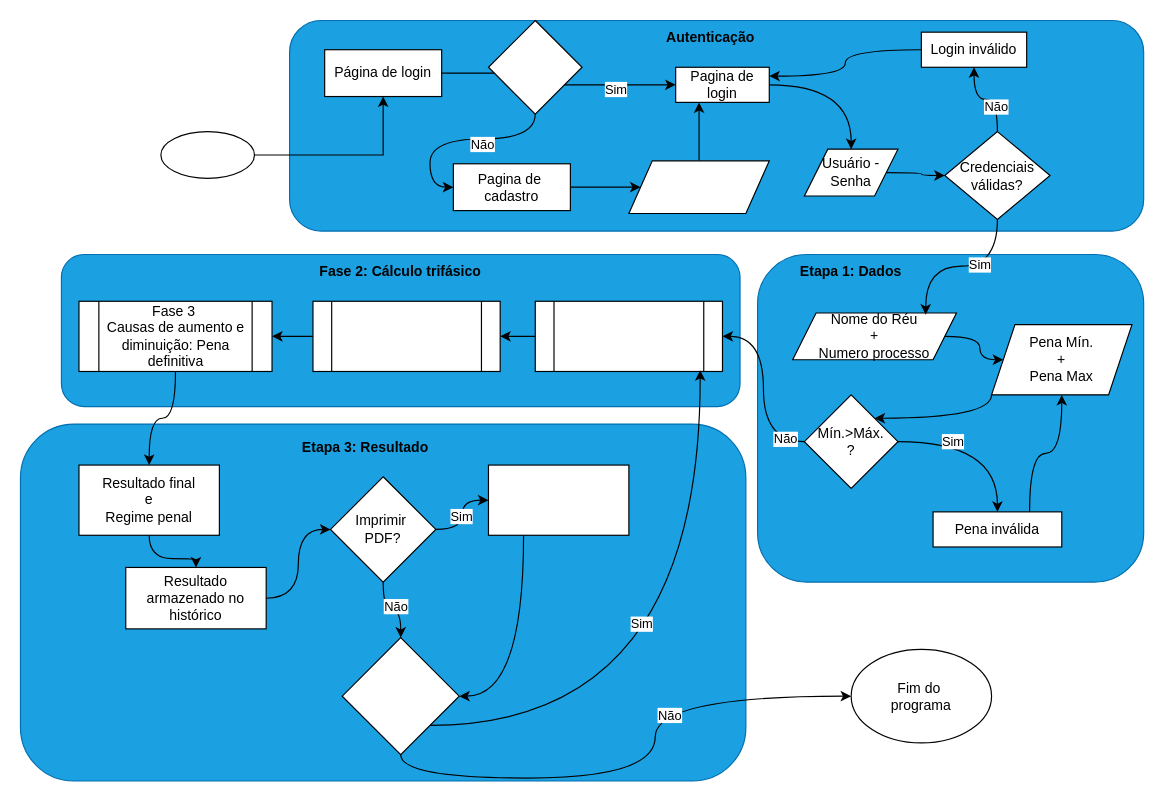
Some shapes in this 1164 by 801 pixel diagram are drawn without their labels. Here are the shapes that lost their labels. From the top down, the centre of each, then its label:
the point at 534,66: Possui conta?
the point at 207,154: Início
the point at 698,187: Criar Nome Input: Email Input: Senha
the point at 406,335: Fase 2 Agravantes e Atenuantes: Pena intermediária
the point at 628,335: Fase 1 Circunstâncias Judiciais: Pena base
the point at 558,499: Download PDF
the point at 400,695: Novo cálculo?
